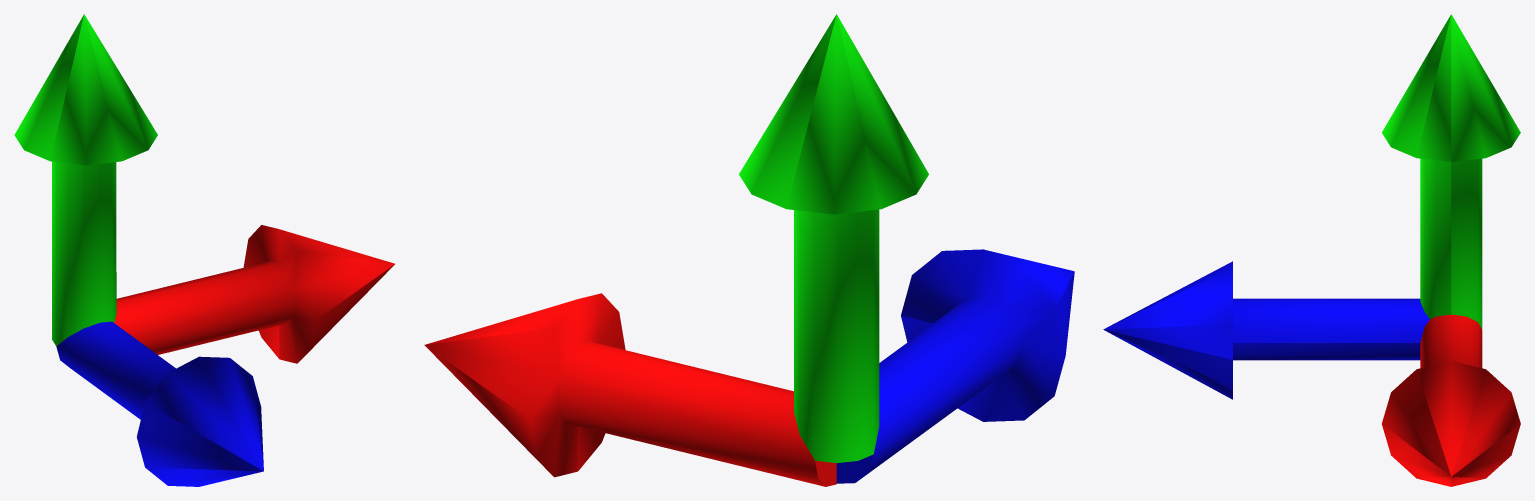
File: axis1.obj
The picture shows the model from 3 angles, left to right: view 1: azimuth 30°, elevation 25°; view 2: azimuth 150°, elevation 25°; view 3: azimuth 270°, elevation 25°; orthographic projection. The views are drawn at different scales.
Visible parts, largest first — view 1: Mesh02, Mesh03, Mesh01; view 2: Mesh02, Mesh03, Mesh01; view 3: Mesh02, Mesh01, Mesh03.
Part boxes in pixels (<box>): Mesh02: <box>14,14,157,346</box>; Mesh03: <box>114,225,394,363</box>; Mesh01: <box>56,321,263,486</box>; Mesh02: <box>739,14,928,463</box>; Mesh03: <box>424,293,836,486</box>; Mesh01: <box>836,249,1074,483</box>; Mesh02: <box>1382,14,1520,328</box>; Mesh01: <box>1103,261,1429,399</box>; Mesh03: <box>1382,314,1520,486</box>.
Bounding box in the file's own units: 1.19 × 1.21 × 1.2.
